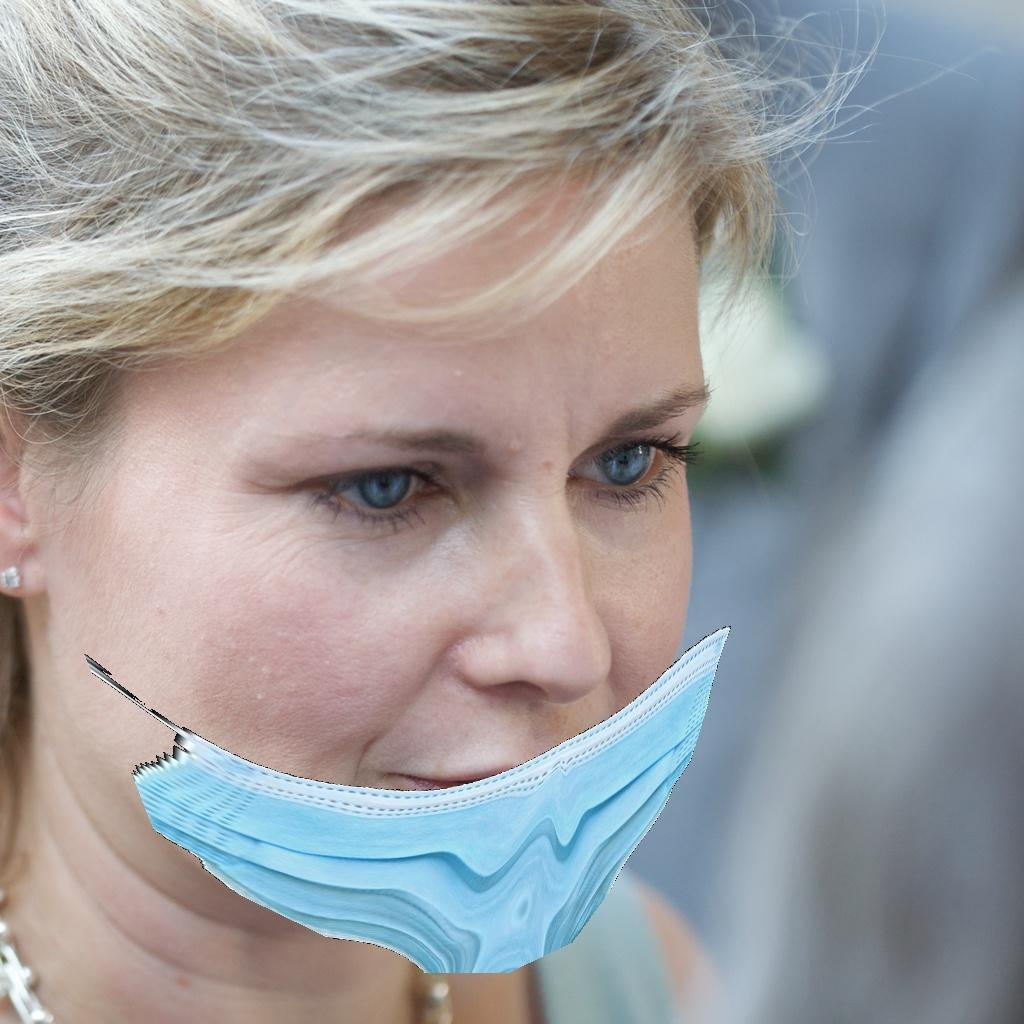Máscara Incorreta: (120, 313, 723, 958)
